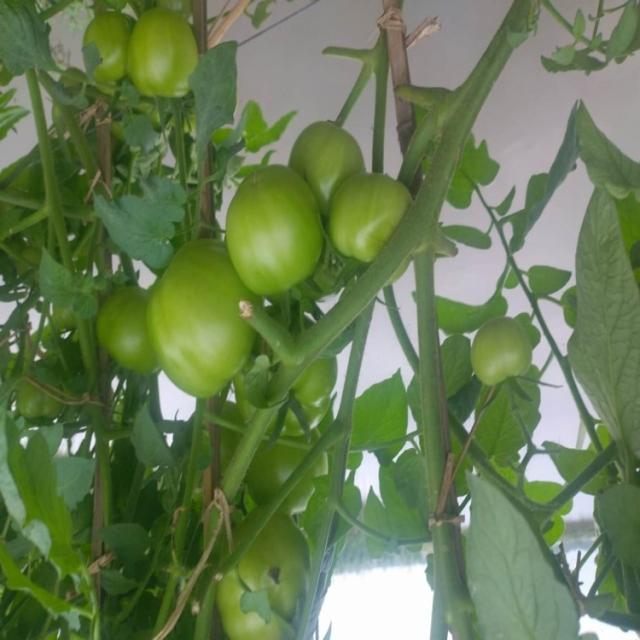tomato: (144, 234, 276, 382), (203, 527, 332, 635), (225, 167, 333, 292), (325, 143, 411, 268), (131, 1, 218, 111), (283, 114, 369, 208), (92, 285, 165, 385), (465, 307, 537, 397), (78, 1, 145, 76)
